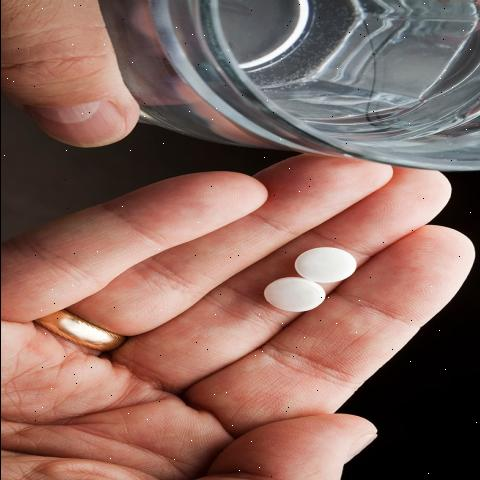Pill: (282, 240, 396, 286), (244, 275, 336, 323)
